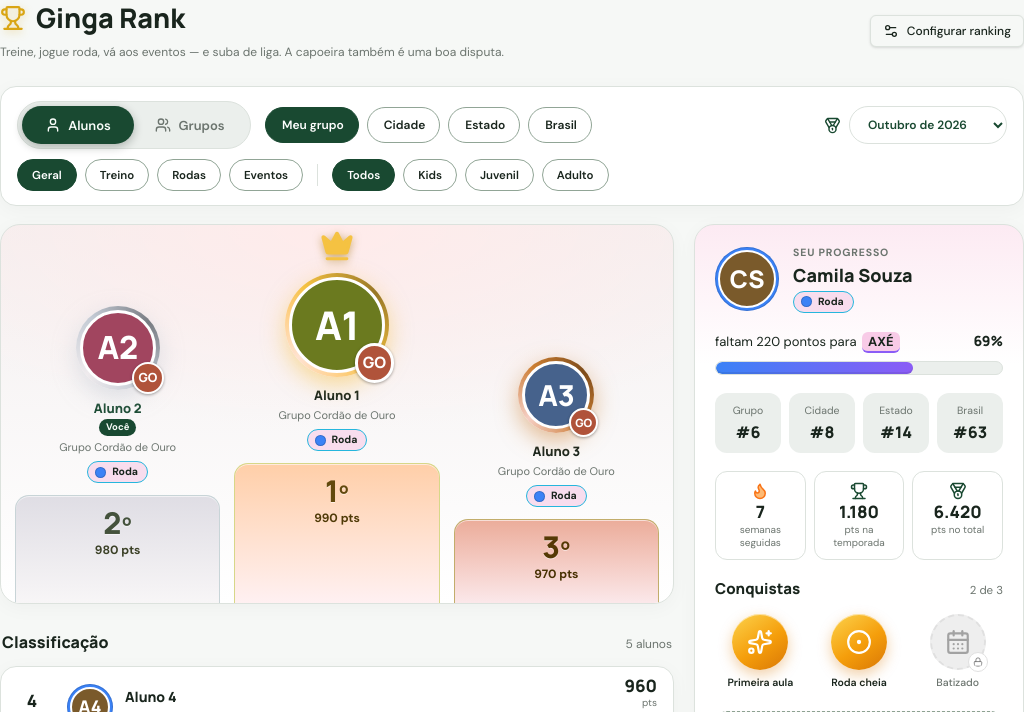
Ginga Rank › conquistas: ganhas coloridas, disponíveis em cinza com dica no detalhe
Click the button with test id "rk-badge-locked" at (958, 652), box [912, 610, 1003, 693]
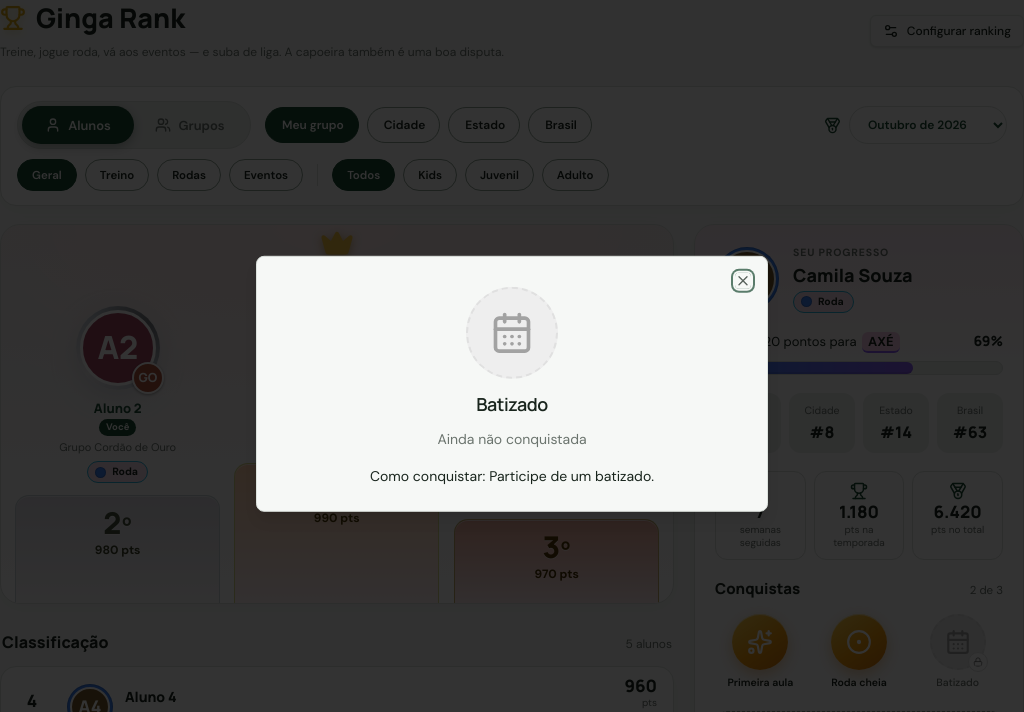
Expected: the dialog shows "Batizado", [476, 392, 548, 416]
Expected: the dialog shows "Como conquistar: Participe de um batizado.", [370, 467, 654, 485]
Click the button at (743, 281), box [735, 273, 751, 289]
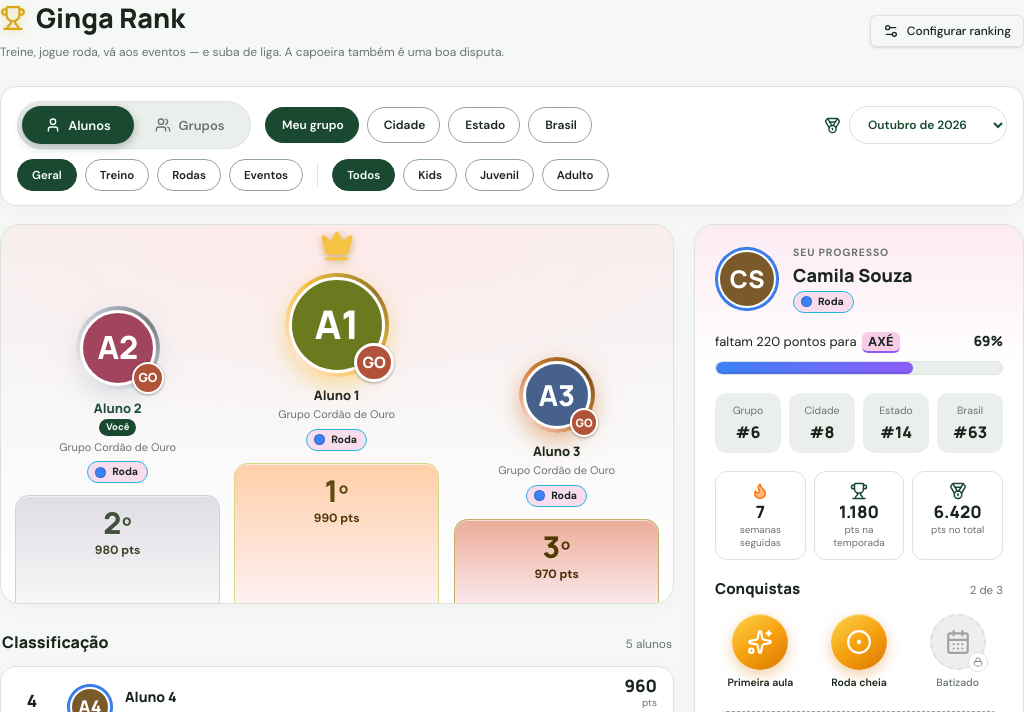
Click the button with test id "rk-badge-earned" showing "Primeira aula" at (760, 652), box [715, 610, 806, 693]
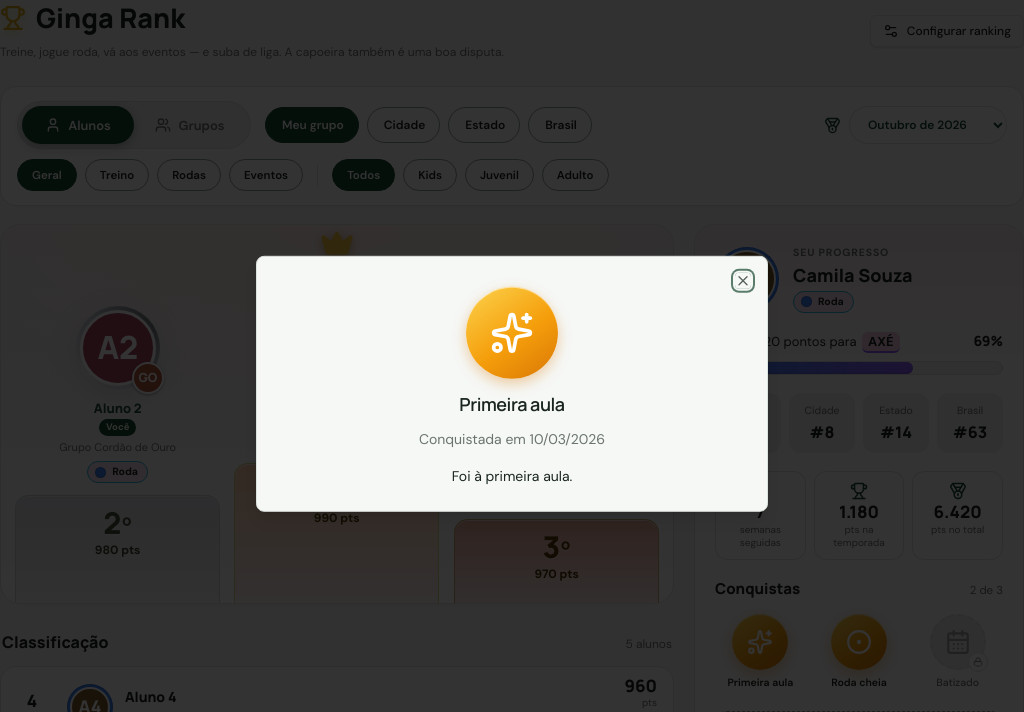
Expected: the dialog shows "Conquistada em 10/03/2026", [419, 430, 605, 448]
